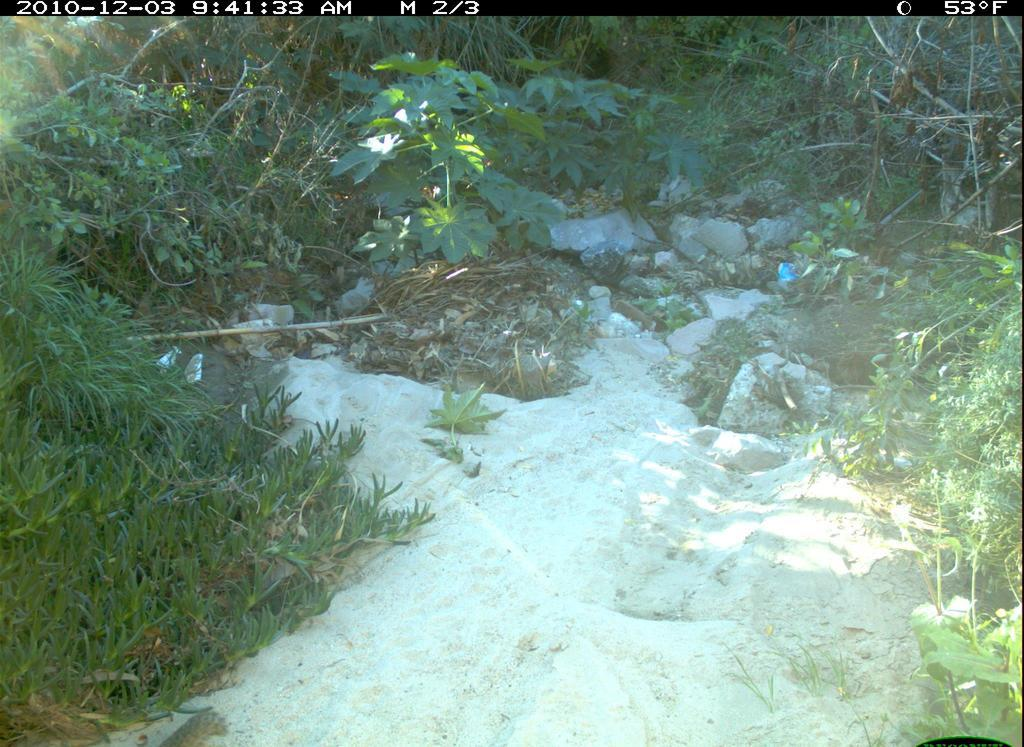squirrel: (125, 692, 240, 747)
